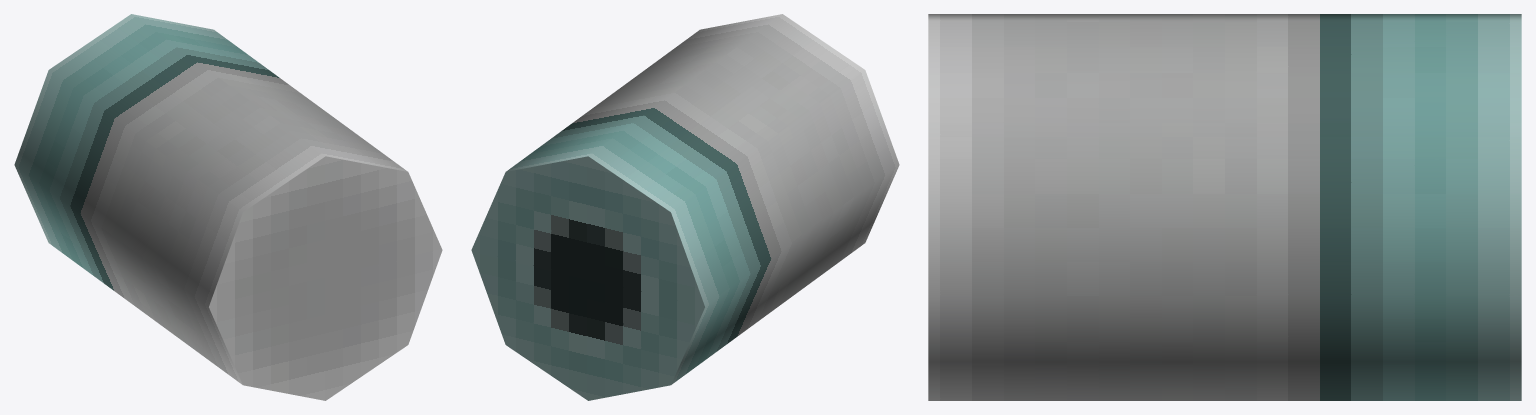
File: Eridani_Antenna_3_Base.obj
3 renders of one model, left to right at view 1: azimuth 30°, elevation 25°; view 2: azimuth 150°, elevation 25°; view 3: azimuth 270°, elevation 25°, orthographic. The views are drawn at different scales.
Visible parts, largest first — view 1: Eridani_Antenna_3_Base; view 2: Eridani_Antenna_3_Base; view 3: Eridani_Antenna_3_Base.
Boxes of the visible parts, x1,y1,x2,y2 form: Eridani_Antenna_3_Base: [14, 14, 442, 400]; Eridani_Antenna_3_Base: [471, 14, 899, 400]; Eridani_Antenna_3_Base: [928, 14, 1521, 400].
Size of the model in its own units: 0.0625 by 0.0625 by 0.09.
